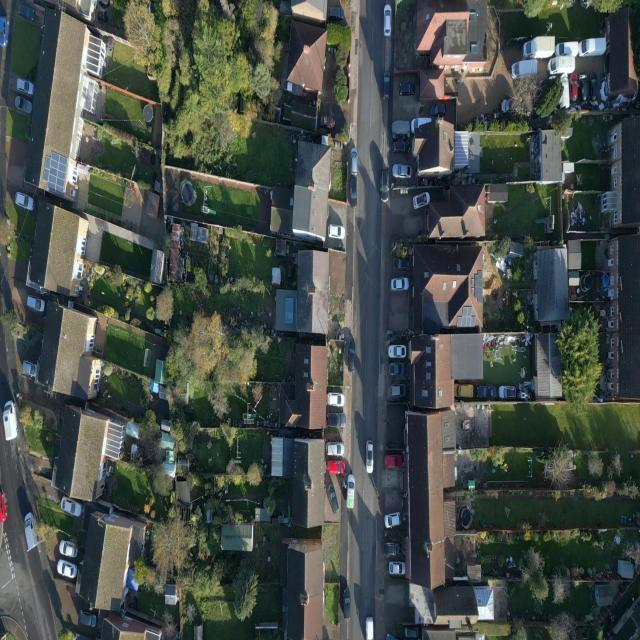Car: (342, 145, 363, 184)
